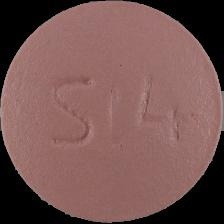31722-901: (0, 0, 224, 224)
